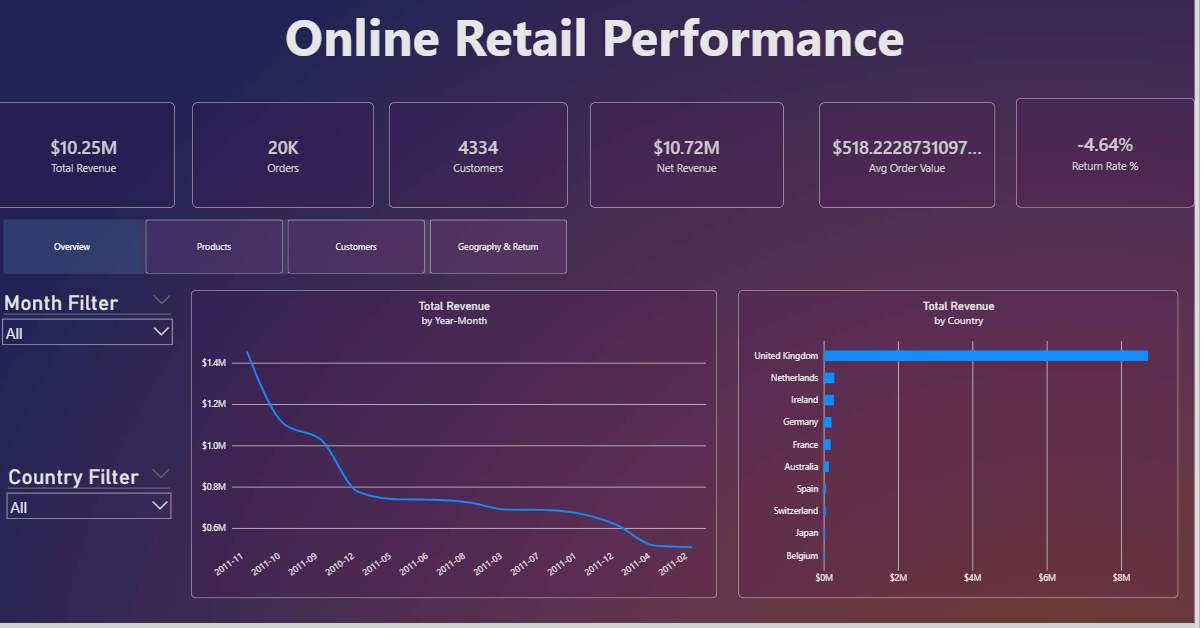

The dashboard page shown, as its layout file describes it:
{"tool":"powerbi","page":{"name":"Overview","canvas":[1920,1080],"ordinal":0},"visuals":[{"type":"textbox","box":[0,0,1920,153.8],"z":0},{"type":"cardVisual","fields":{"Data":["Sum(Fact_Sales.Revenue)"]},"box":[73.2,192.9,283.8,155.2],"z":1},{"type":"cardVisual","fields":{"Data":["Data.Orders"]},"box":[372.8,192.9,271,154],"z":2},{"type":"cardVisual","fields":{"Data":["Data.Customers"]},"box":[663.3,192.9,278.7,153.8],"z":3},{"type":"cardVisual","fields":{"Data":["Data.Avg Order Value"]},"box":[1259.7,192.9,274.8,153.8],"z":5},{"type":"lineChart","fields":{"Category":["Dim_Date.Year-Month"],"Y":["Data.Total Revenue"]},"box":[425.7,492.2,705,514.4],"z":7},{"type":"clusteredBarChart","fields":{"Category":["Dim_Country.Country"],"Y":["Sum(Fact_Sales.Revenue)"]},"box":[1157.3,492.2,727.2,514.4],"z":8},{"type":"slicer","fields":{"Values":["Dim_Date.Month"]},"box":[15.5,492.2,410.2,124.2],"z":9},{"type":"slicer","fields":{"Values":["Dim_Country.Country"]},"box":[17.7,709.5,407.9,130.8],"z":10},{"type":"cardVisual","fields":{"Data":["Data.Net Revenue"]},"box":[960.4,192.9,274.9,154.2],"z":11},{"type":"cardVisual","fields":{"Data":["Data.Return Rate %"]},"box":[1554.5,192.9,295,154.2],"z":12},{"type":"pageNavigator","box":[39.9,370.3,889.1,102],"z":13}]}

Visuals, with their boxes on the page's 1920x1080 design canvas (x1, y1, x2, y2). These are canvas units, not pixel positions in the 1204x628 screenshot, which may show the page scaled, cropped or inside an application window:
textbox: detection(0, 0, 1920, 154)
cardVisual - Sum(Fact_Sales.Revenue): detection(73, 193, 357, 348)
cardVisual - Data.Orders: detection(373, 193, 644, 347)
cardVisual - Data.Customers: detection(663, 193, 942, 347)
cardVisual - Data.Avg Order Value: detection(1260, 193, 1534, 347)
lineChart - Dim_Date.Year-Month x Data.Total Revenue: detection(426, 492, 1131, 1007)
clusteredBarChart - Dim_Country.Country x Sum(Fact_Sales.Revenue): detection(1157, 492, 1884, 1007)
slicer - Dim_Date.Month: detection(16, 492, 426, 616)
slicer - Dim_Country.Country: detection(18, 710, 426, 840)
cardVisual - Data.Net Revenue: detection(960, 193, 1235, 347)
cardVisual - Data.Return Rate %: detection(1554, 193, 1850, 347)
pageNavigator: detection(40, 370, 929, 472)
